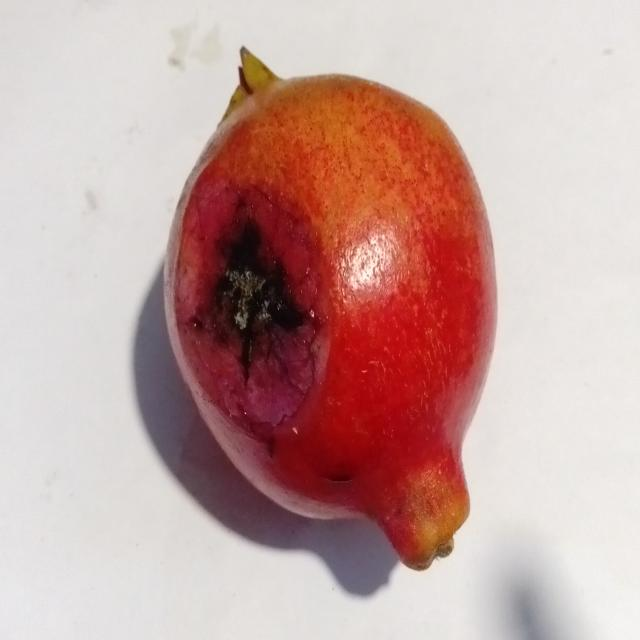Rotten: (157, 45, 501, 574)
